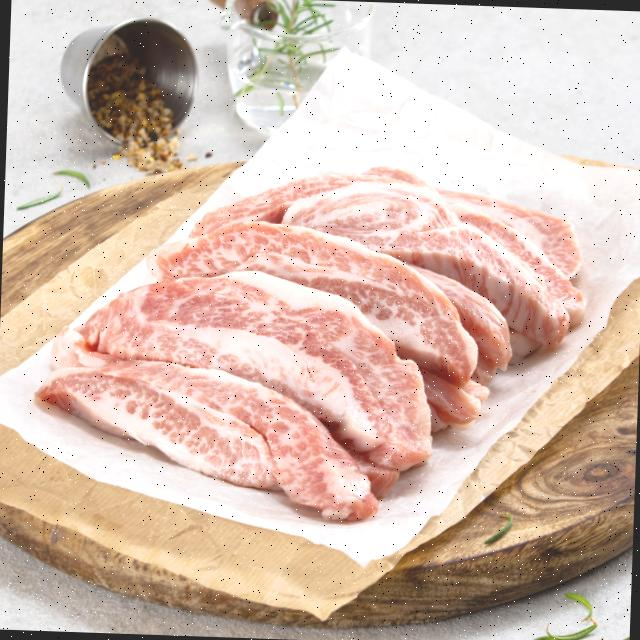meat: (28, 152, 591, 532), (26, 264, 439, 526)
